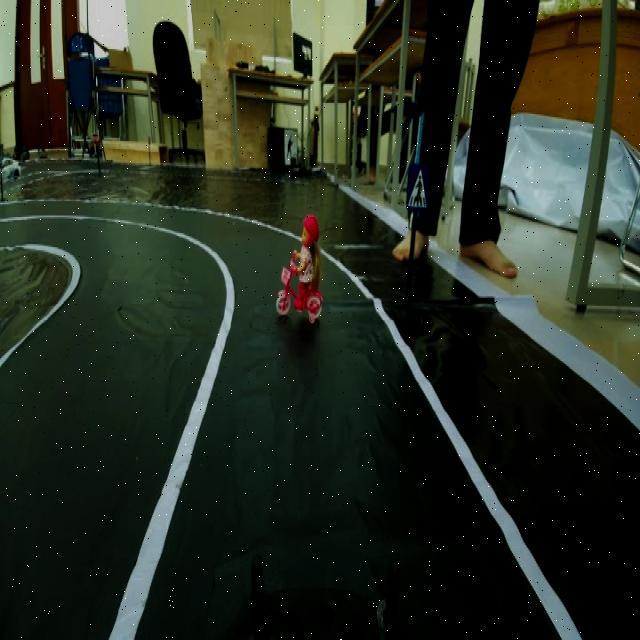crosswalk: (406, 160, 434, 214)
pedestrian: (267, 207, 329, 328)
